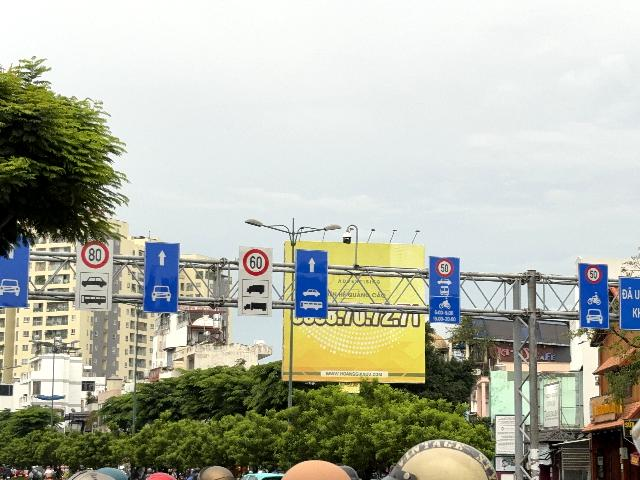toc-do-toi-da-cho-phep: (80, 240, 109, 269), (242, 249, 270, 276), (435, 258, 453, 278), (585, 266, 602, 283)
